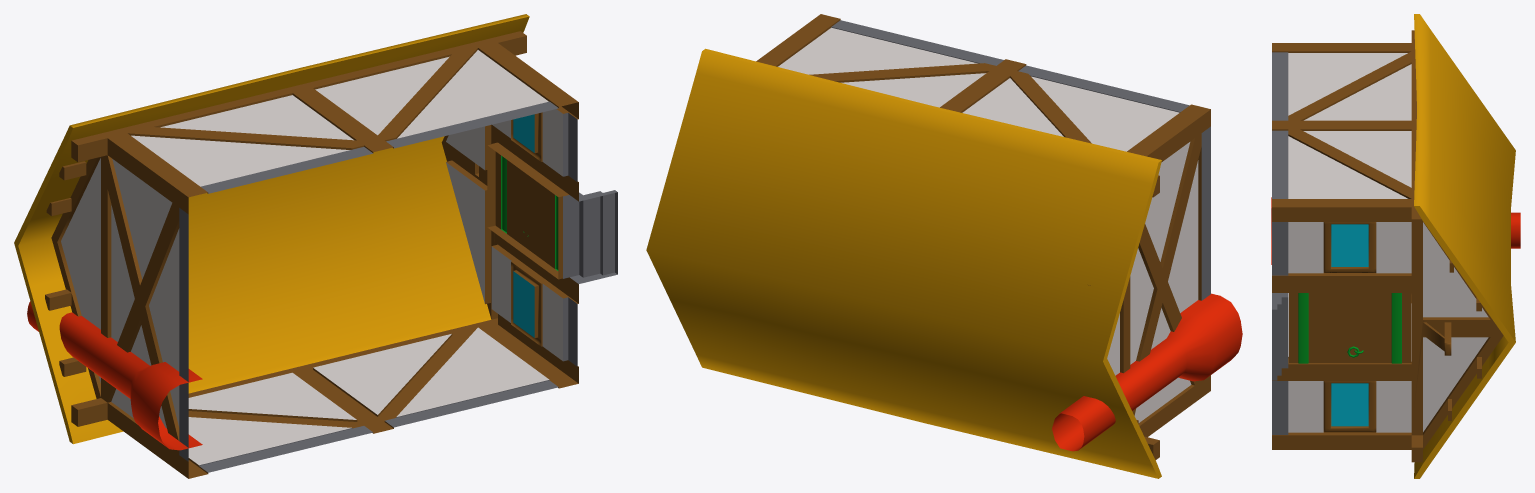
The model's file is FPSRTSHouse.fbx.
The picture shows the model from 3 angles, left to right: view 1: azimuth 30°, elevation 25°; view 2: azimuth 150°, elevation 25°; view 3: azimuth 270°, elevation 25°; orthographic projection. The views are drawn at different scales.
Parts seen in each view (by area): view 1: ActualHouse; view 2: ActualHouse; view 3: ActualHouse.
Part boxes in pixels (bbox=[...]): ActualHouse: bbox=[14, 14, 617, 478]; ActualHouse: bbox=[646, 14, 1242, 478]; ActualHouse: bbox=[1271, 14, 1520, 478].
Bounding box in the file's own units: 1509 × 963 × 798.
